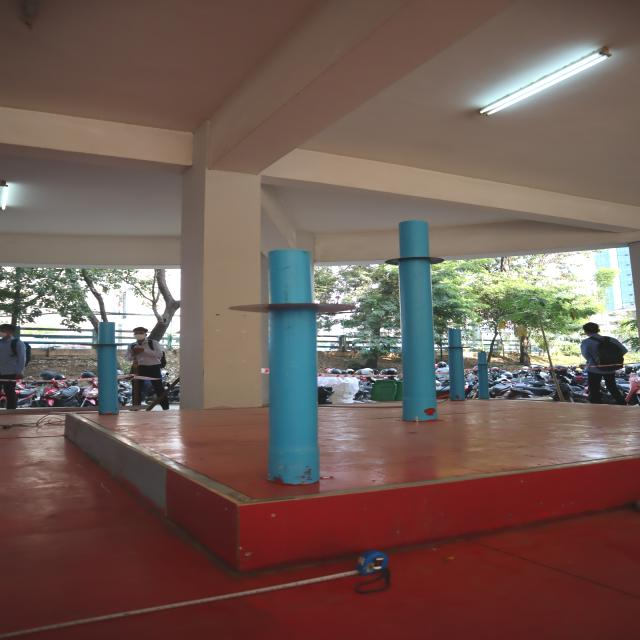pole: (220, 247, 348, 337), (382, 223, 445, 275), (84, 318, 152, 356)
